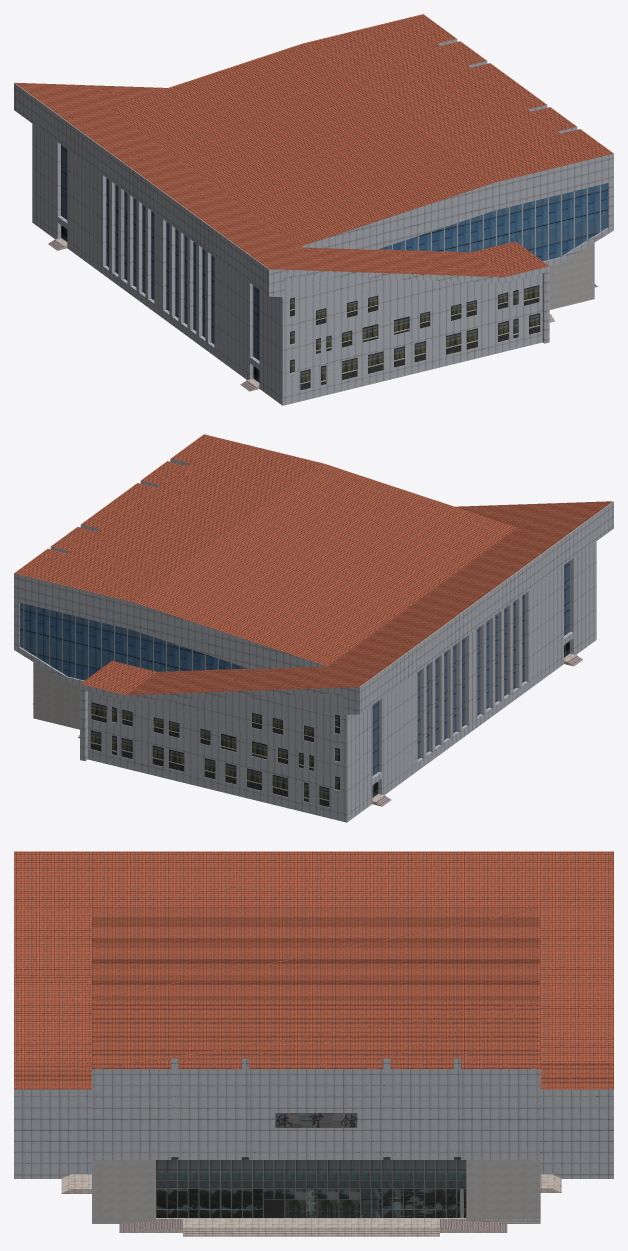
The model's file is TYG.dae.
The picture shows the model from 3 angles, top to bottom: view 1: azimuth 30°, elevation 25°; view 2: azimuth 150°, elevation 25°; view 3: azimuth 270°, elevation 25°; orthographic projection. The views are drawn at different scales.
Visible parts, largest first — view 1: group_2 (×8); view 2: group_2 (×8); view 3: group_2 (×7), group_3, SketchUp (×4), group_1.
Part boxes in pixels (bbox=[...]): group_2 (×8): bbox=[14, 14, 613, 405]; group_2 (×8): bbox=[14, 434, 613, 822]; group_2 (×7): bbox=[14, 851, 613, 1223]; group_3: bbox=[156, 1157, 466, 1217]; SketchUp (×4): bbox=[61, 1174, 507, 1236]; group_1: bbox=[275, 1113, 357, 1127].
Size of the model in its own units: 2306 by 2675 by 821.
Materials: 16 (15 with a texture image).
